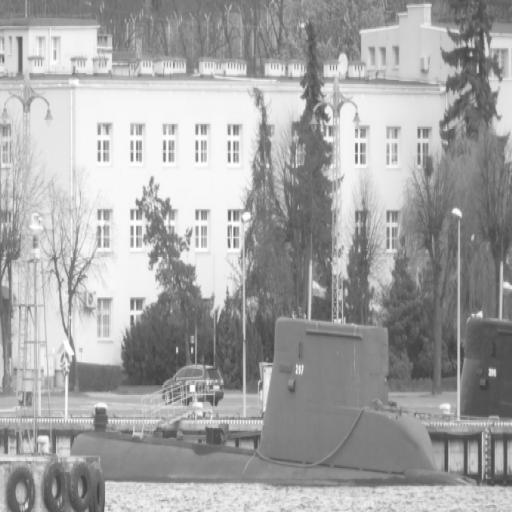submarine: (73, 322, 470, 491)
